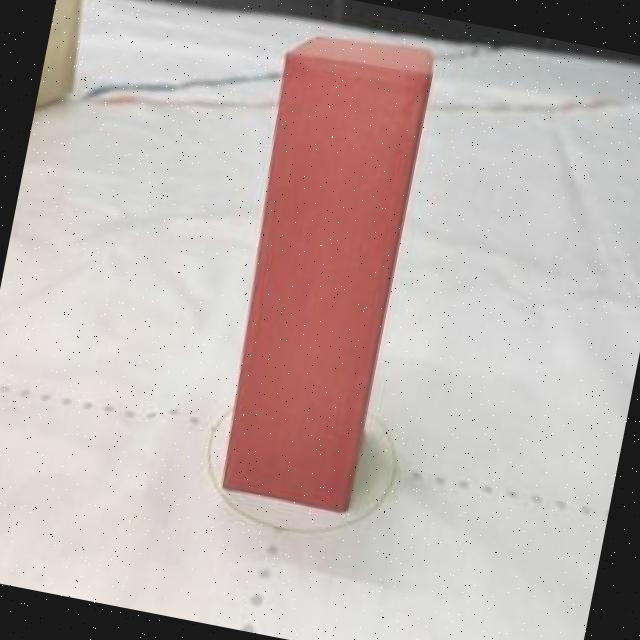redbox: (198, 19, 440, 516)
